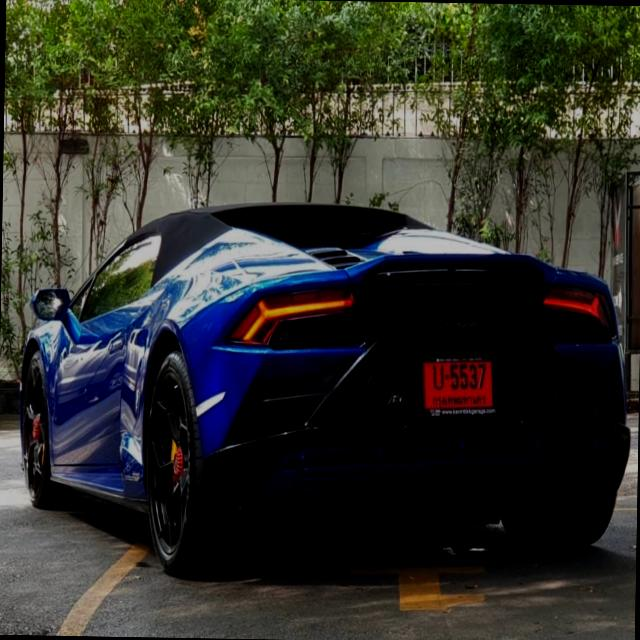license_plate: (416, 352, 502, 418)
